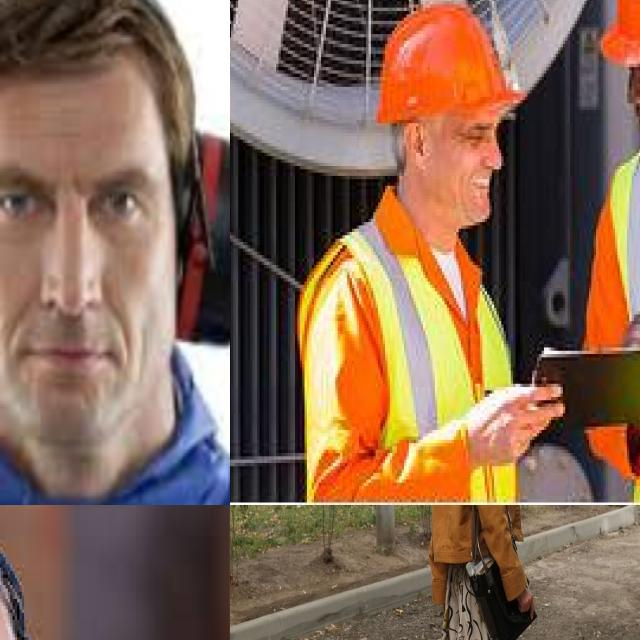Ear-protection: (0, 0, 230, 475)
No_Ear-Protection: (406, 122, 433, 174)
No_Glasses: (0, 140, 172, 256), (454, 119, 498, 152), (633, 64, 640, 84)
face_nomask: (433, 151, 502, 221)
hand_noglove: (463, 385, 563, 466), (625, 314, 640, 347)
head_helmet: (376, 4, 526, 123)
person: (0, 0, 230, 505), (0, 508, 230, 640)
